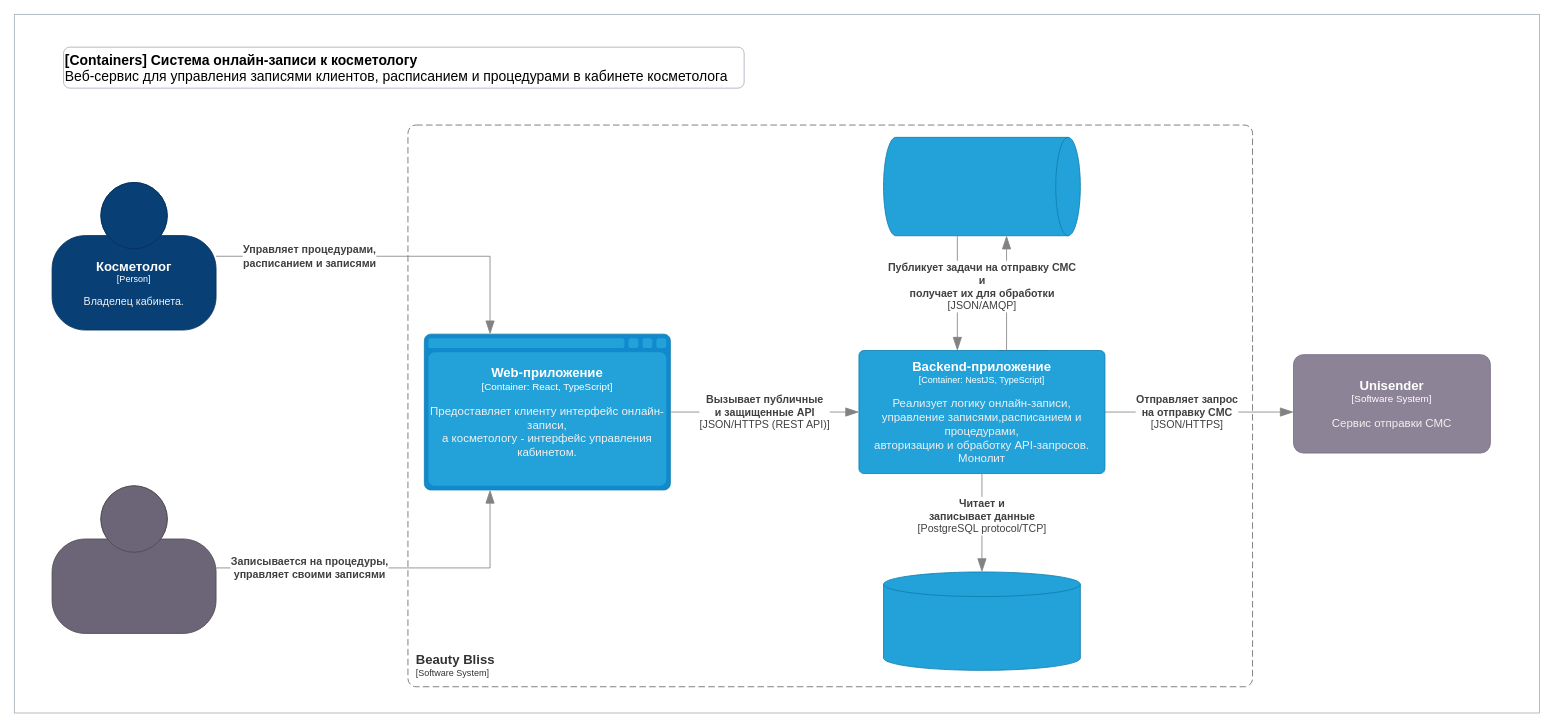
This 1554x727 diagram has some shape labels left out. Here are the shapes that lost their labels. From the top down, the box of each, then its label:
(883, 137, 1080, 236): Брокер сообщений [Container: RabbitMQ] Очереди сообщений
(51, 485, 216, 633): Клиент [Person] Неавторизованный пользователь. Посититель сайта.
(883, 571, 1080, 670): БД [Container: PostgreSQL] Хранение данных
